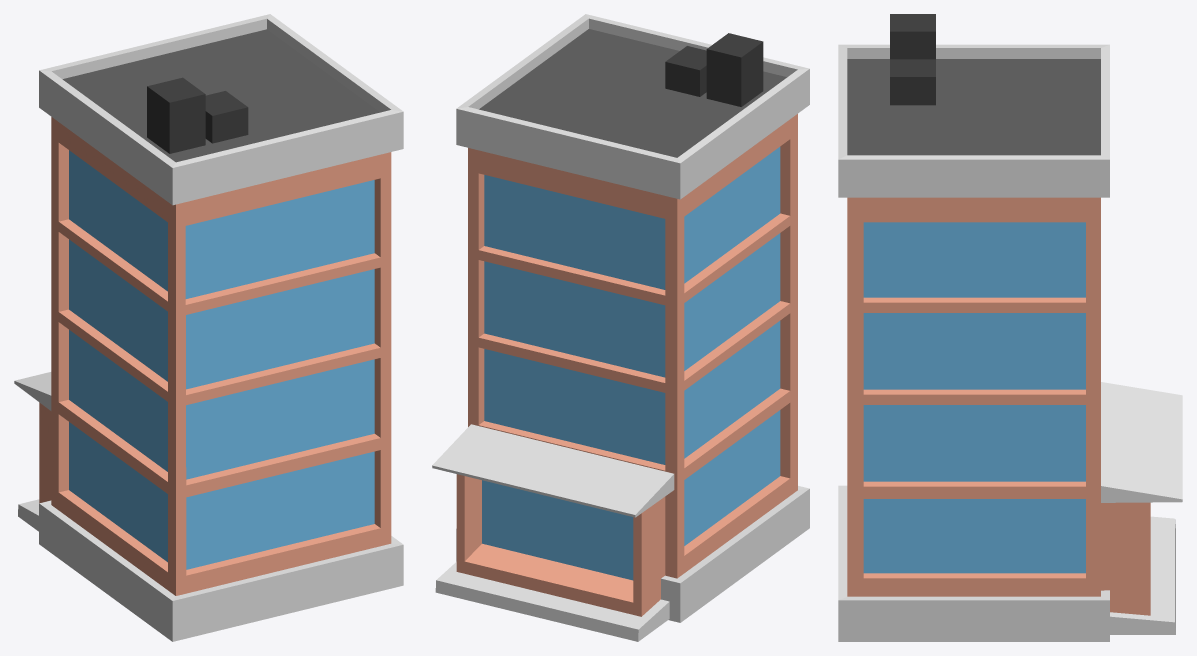
The picture shows the model from 3 angles, left to right: view 1: azimuth 30°, elevation 25°; view 2: azimuth 150°, elevation 25°; view 3: azimuth 270°, elevation 25°; orthographic projection. The views are drawn at different scales.
Parts seen in each view (by area): view 1: House_3; view 2: House_3; view 3: House_3.
Part boxes in pixels (x1=…): House_3: x1=14, y1=14, x2=403, y2=641; House_3: x1=432, y1=14, x2=809, y2=641; House_3: x1=838, y1=14, x2=1182, y2=641.
Size of the model in its own units: 232 by 493 by 293.
